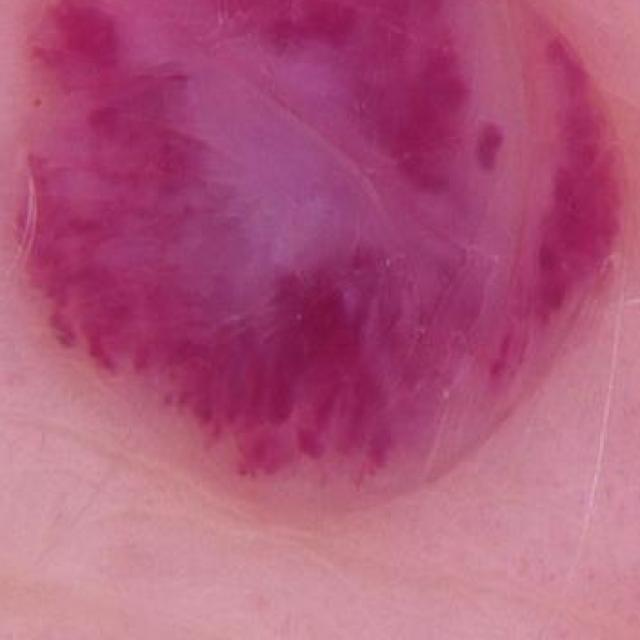VASC: (11, 0, 627, 511)
